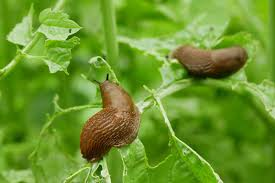slug: (78, 77, 141, 165), (171, 42, 245, 78)
